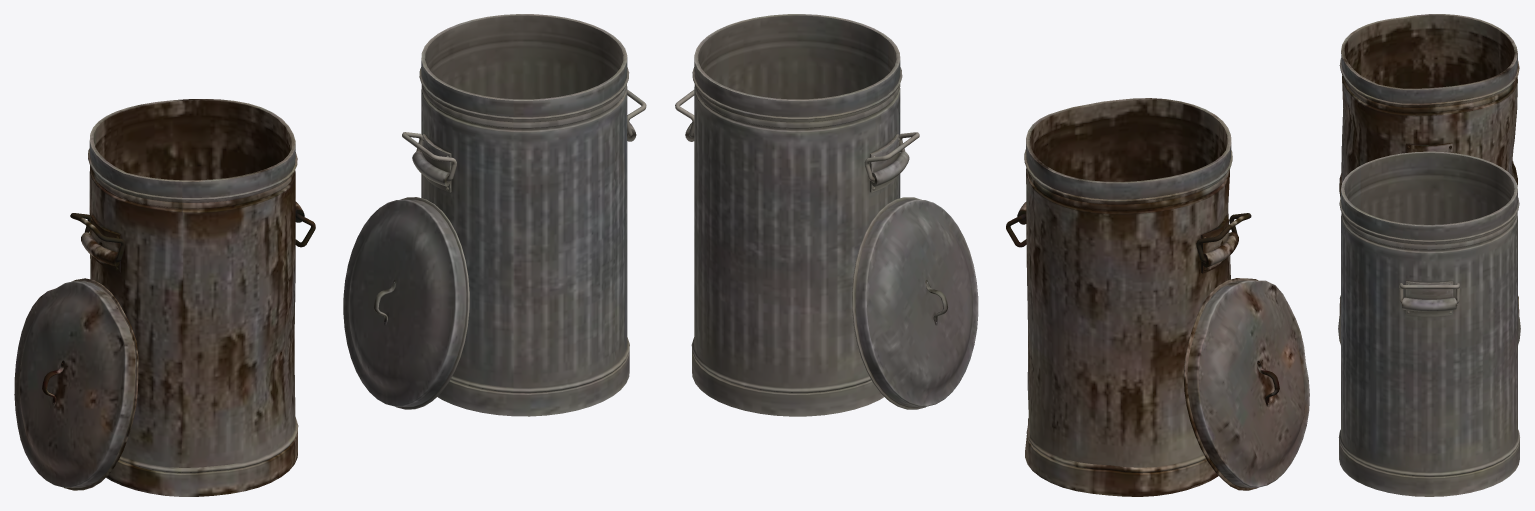
File: bin.glb
The picture shows the model from 3 angles, left to right: view 1: azimuth 30°, elevation 25°; view 2: azimuth 150°, elevation 25°; view 3: azimuth 270°, elevation 25°; orthographic projection. The views are drawn at different scales.
Visible parts, largest first — view 1: metal_trash_can, metal_trash_can_rust, metal_trash_can_lid, metal_trash_can_rust_lid; view 2: metal_trash_can, metal_trash_can_rust, metal_trash_can_lid, metal_trash_can_rust_lid; view 3: metal_trash_can, metal_trash_can_rust, metal_trash_can_handle_right.
Part boxes in pixels (x1,y1,x2,y2): metal_trash_can: (412, 14, 636, 416); metal_trash_can_rust: (81, 99, 304, 496); metal_trash_can_lid: (343, 197, 469, 409); metal_trash_can_rust_lid: (14, 278, 138, 490); metal_trash_can: (685, 14, 909, 416); metal_trash_can_rust: (1017, 98, 1238, 496); metal_trash_can_lid: (852, 197, 978, 409); metal_trash_can_rust_lid: (1183, 278, 1309, 490); metal_trash_can: (1338, 151, 1519, 496); metal_trash_can_rust: (1339, 14, 1519, 316); metal_trash_can_handle_right: (1399, 283, 1459, 303).
Bounding box in the file's own units: 1.78 × 0.9062 × 0.5563.
3 materials, 3 textured.
